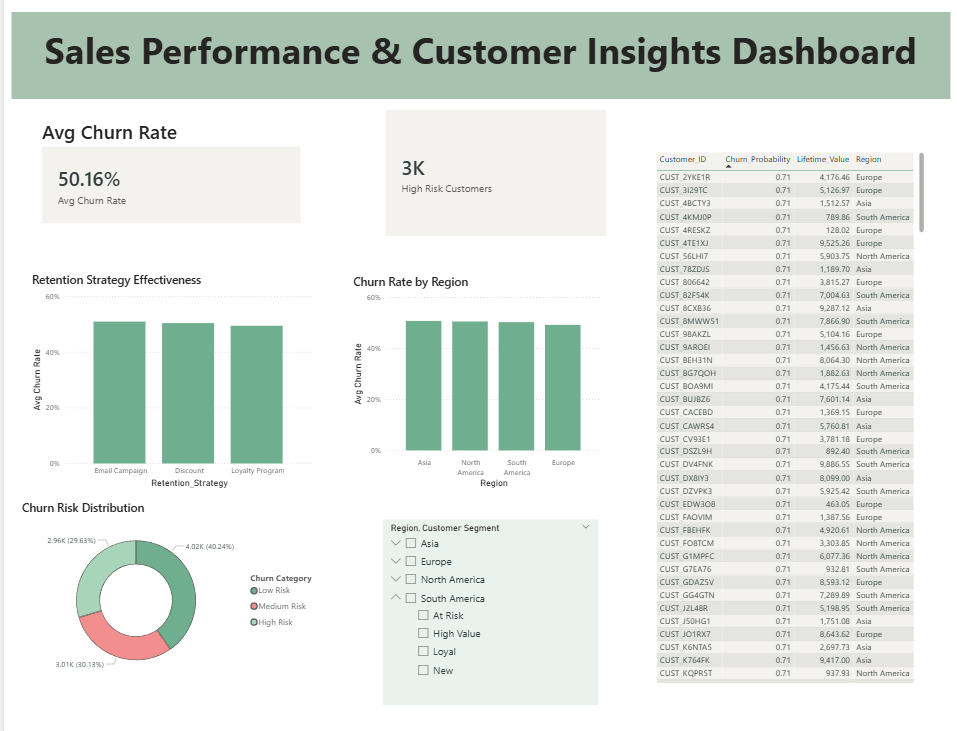

This screenshot's page, from the dashboard's own definition file:
{"tool":"powerbi","page":{"name":"CHURN ANALYSIS","canvas":[1540,1200],"ordinal":2},"visuals":[{"type":"cardVisual","title":"Avg Churn Rate","fields":{"Data":["Sales_Data.Avg Churn Rate"]},"box":[56,204,426,174],"z":0},{"type":"cardVisual","fields":{"Data":["Sales_Data.High Risk Customers"]},"box":[610,184,364,212],"z":1000},{"type":"donutChart","title":"Churn Risk Distribution","fields":{"Category":["Sales_Data.Churn Category"],"Y":["CountNonNull(Sales_Data.Customer_ID)"]},"box":[24,816,492,300],"z":2000},{"type":"clusteredColumnChart","title":"Churn Rate by Region","fields":{"Category":["Sales_Data.Region"],"Y":["Sales_Data.Avg Churn Rate"]},"box":[556,452,408,350],"z":3000},{"type":"clusteredColumnChart","title":"Retention Strategy Effectiveness","fields":{"Category":["Sales_Data.Retention_Strategy"],"Y":["Sales_Data.Avg Churn Rate"]},"box":[40,450,462,352],"z":4000},{"type":"tableEx","fields":{"Values":["Sales_Data.Customer_ID","Sales_Data.Churn_Probability","Sales_Data.Lifetime_Value","Sales_Data.Region"]},"box":[1044,254,442,862],"z":5000},{"type":"slicer","fields":{"Values":["Sales_Data.Region","Sales_Data.Customer Segment"]},"box":[610,848,346,298],"z":6000},{"type":"textbox","box":[12.5,32.5,1510,140],"z":7000}]}

Visuals, with their boxes in screenshot pixels (x1, y1, x2, y2), scaled from the page's 1540x1200 canvas onto the 957x731 screenshot:
"Avg Churn Rate" cardVisual: 35:124:300:230
cardVisual - Sales_Data.High Risk Customers: 379:112:605:241
"Churn Risk Distribution" donutChart: 15:497:321:680
"Churn Rate by Region" clusteredColumnChart: 346:275:599:489
"Retention Strategy Effectiveness" clusteredColumnChart: 25:274:312:489
tableEx - Sales_Data.Customer_ID x Sales_Data.Churn_Probability: 649:155:923:680
slicer - Sales_Data.Region x Sales_Data.Customer Segment: 379:517:594:698
textbox: 8:20:946:105
